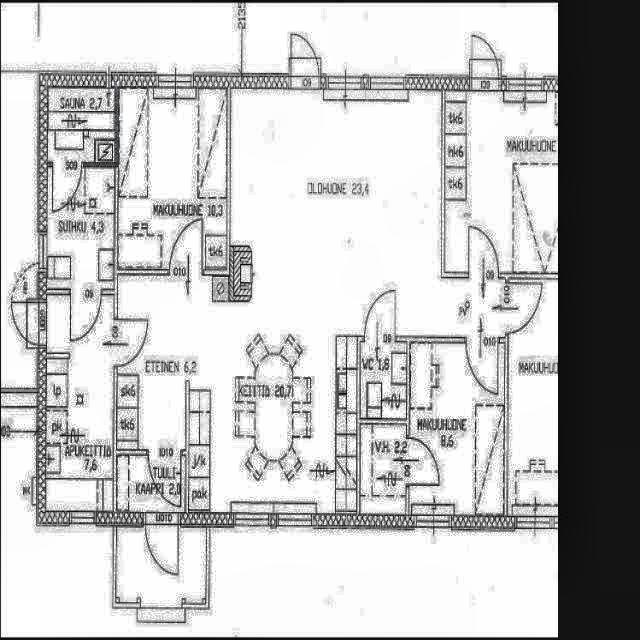room: (118, 89, 227, 269), (409, 344, 504, 515), (46, 295, 114, 511), (47, 167, 114, 289), (117, 524, 206, 604), (48, 87, 115, 162), (360, 424, 406, 514), (117, 455, 186, 512), (360, 342, 406, 418)
